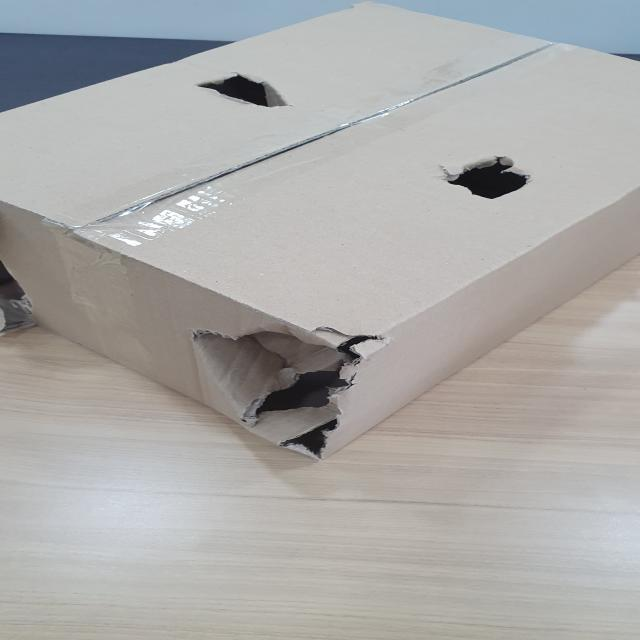hole: (180, 316, 394, 464), (430, 154, 537, 204), (197, 68, 298, 111)
